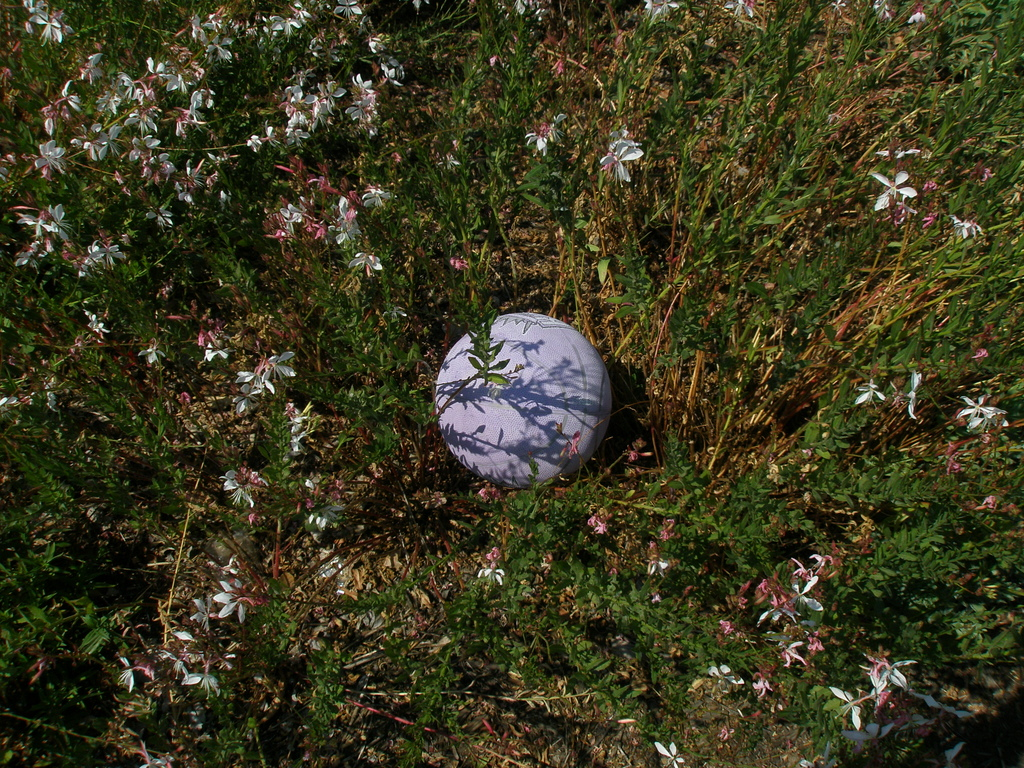Ball: (436, 314, 607, 490)
